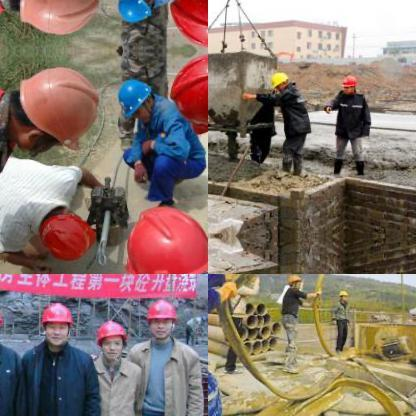Helmet: (2, 59, 104, 155), (112, 196, 207, 273), (2, 0, 105, 41), (35, 200, 95, 260), (163, 52, 207, 130), (113, 72, 155, 124), (162, 0, 207, 47), (38, 300, 72, 346), (92, 318, 128, 360), (144, 298, 178, 338), (112, 0, 156, 27), (266, 68, 289, 90), (340, 72, 356, 96), (284, 274, 303, 290), (336, 288, 348, 300)
